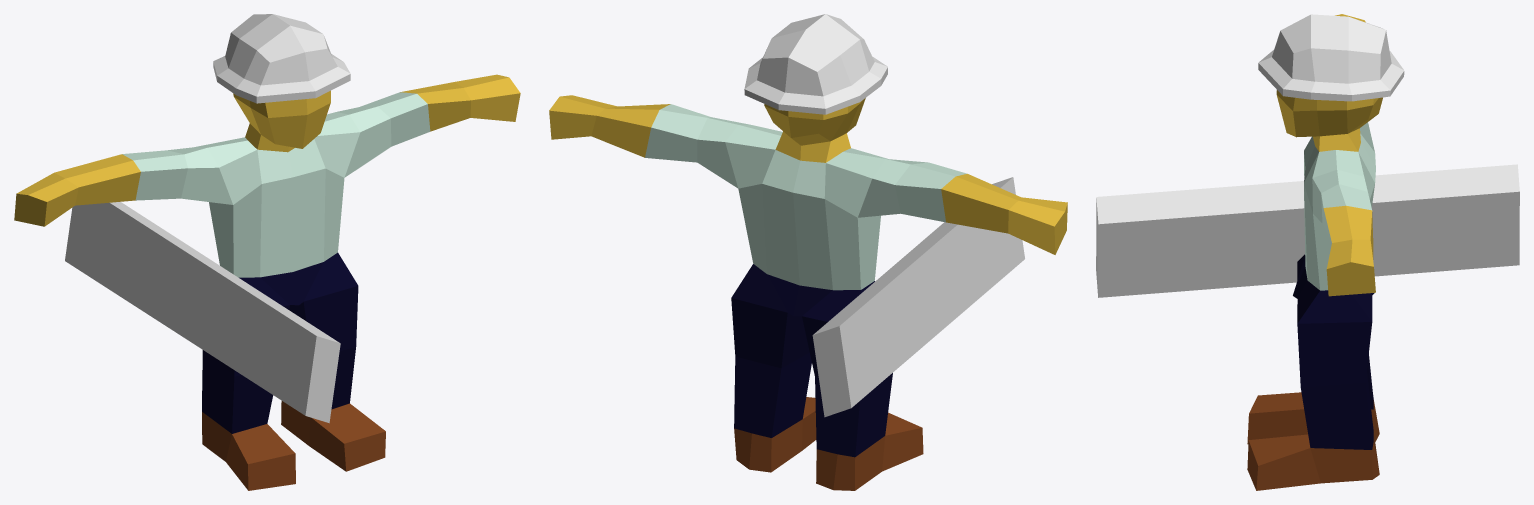
The model's file is engineer.glb.
The picture shows the model from 3 angles, left to right: view 1: azimuth 30°, elevation 25°; view 2: azimuth 150°, elevation 25°; view 3: azimuth 270°, elevation 25°; orthographic projection. The views are drawn at different scales.
Parts seen in each view (by area): view 1: Cube.001, Cube; view 2: Cube.001, Cube; view 3: Cube.001, Cube.
Part boxes in pixels (box(x1,y1,x2,y2)): Cube.001: box(14, 14, 520, 490); Cube: box(65, 202, 340, 423); Cube.001: box(549, 14, 1067, 490); Cube: box(812, 177, 1024, 417); Cube.001: box(1247, 14, 1404, 490); Cube: box(1096, 164, 1519, 297).
Size of the model in its own units: 2.68 by 2.25 by 1.95.
